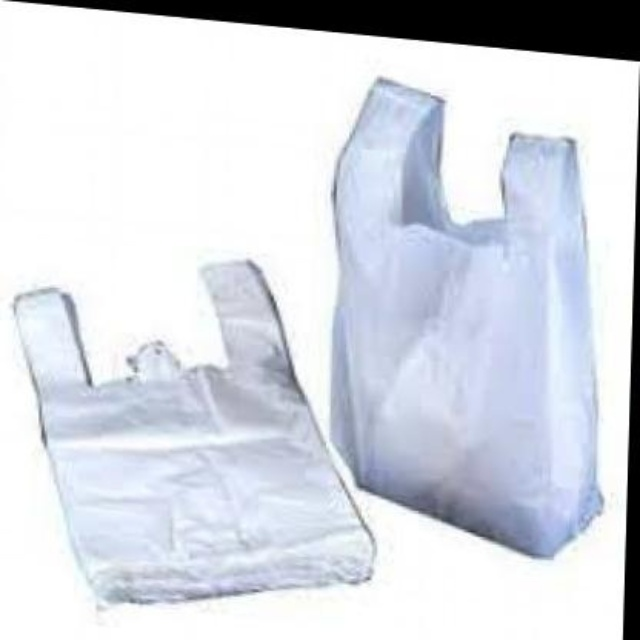trash: (331, 78, 600, 554), (14, 262, 372, 602)
